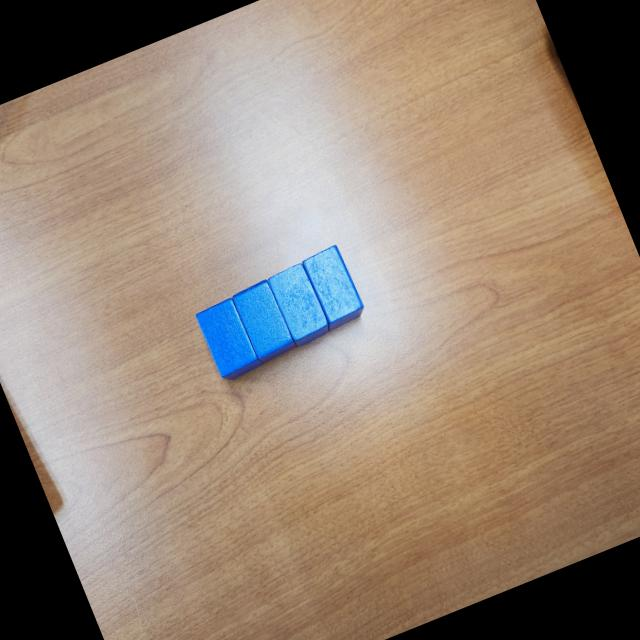blue: (299, 243, 368, 332), (266, 260, 334, 350), (229, 276, 298, 364), (195, 297, 262, 383)
